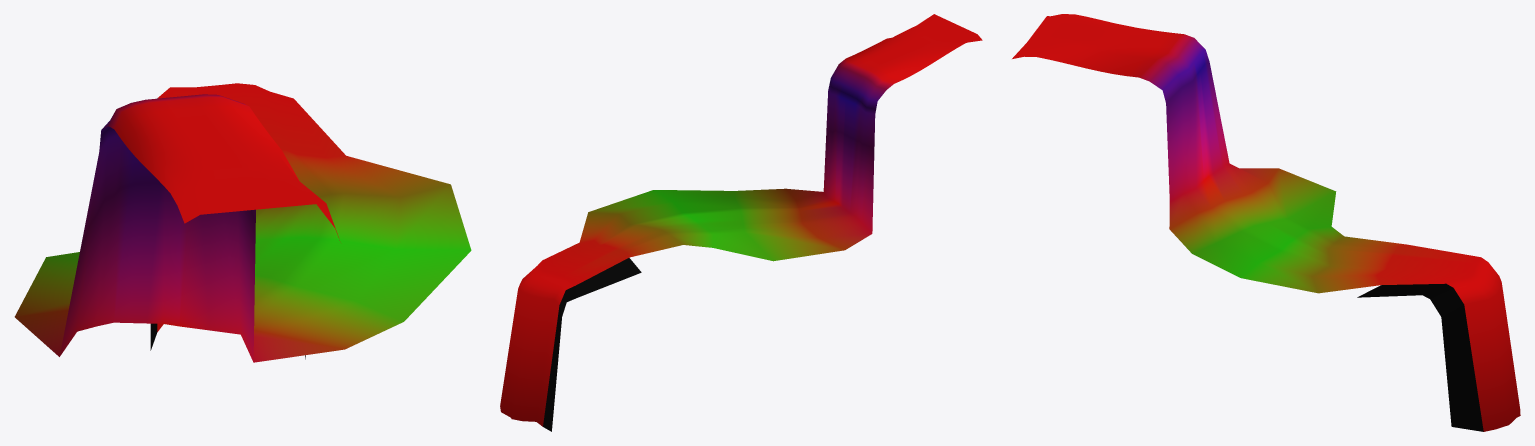
File: RaysWaterfal_test11.fbx
3 renders of one model, left to right at view 1: azimuth 30°, elevation 25°; view 2: azimuth 150°, elevation 25°; view 3: azimuth 270°, elevation 25°, orthographic. The views are drawn at different scales.
Parts seen in each view (by area): view 1: Waterfall_RaysXperiment; view 2: Waterfall_RaysXperiment; view 3: Waterfall_RaysXperiment.
Boxes of the visible parts, x1=… form: Waterfall_RaysXperiment: x1=14, y1=83, x2=471, y2=362; Waterfall_RaysXperiment: x1=500, y1=14, x2=982, y2=431; Waterfall_RaysXperiment: x1=1012, y1=14, x2=1520, y2=431.
Bounding box in the file's own units: 20459 × 20510 × 32532.
